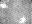person: (18, 16, 26, 22), (0, 2, 6, 8)
